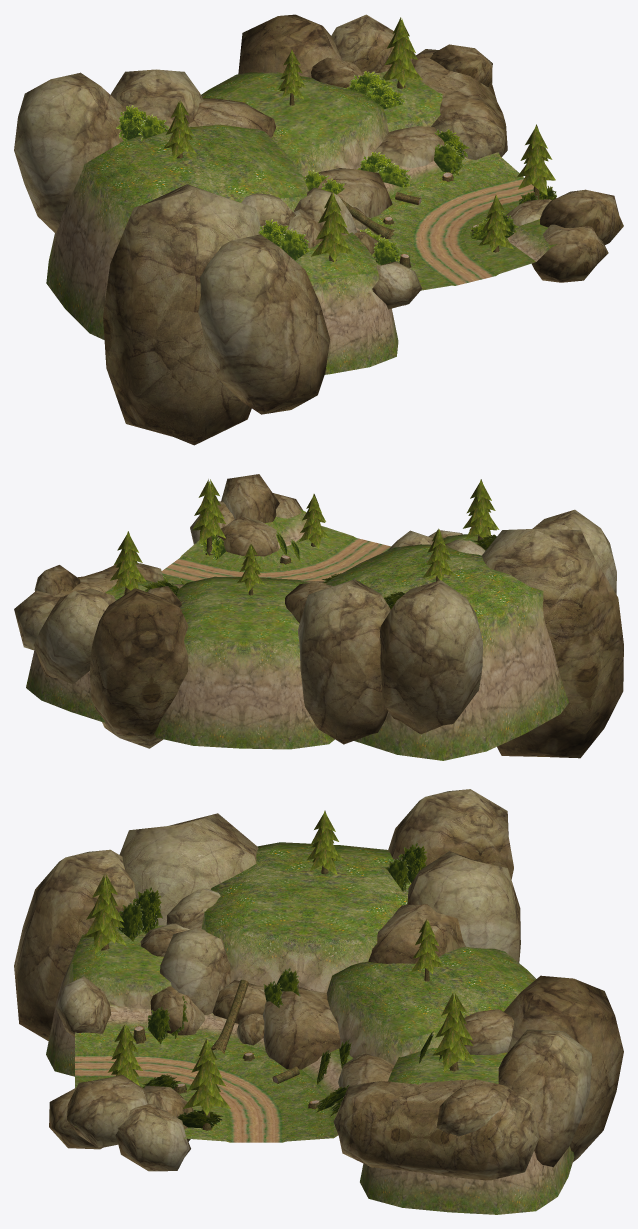
File: BikeRoad012.FBX
3 views of the same model, one above another, from view 1: azimuth 30°, elevation 25°; view 2: azimuth 150°, elevation 25°; view 3: azimuth 270°, elevation 25° (orthographic). The views are drawn at different scales.
Parts seen in each view (by area): view 1: Rock (×19), Ground (×5), Tree (×6), GrassPlane (×5); view 2: Rock (×14), Ground (×4), Tree (×6); view 3: Rock (×23), Ground (×5), Tree (×6), GrassPlane (×4), Log.
Part boxes in pixels (x1,y1,x2,y2): Rock (×19): (14,14,623,445); Ground (×5): (46,71,557,374); Tree (×6): (163,17,555,261); GrassPlane (×5): (116,71,465,260); Rock (×14): (14,474,623,758); Ground (×4): (26,509,568,760); Tree (×6): (110,479,499,595); Rock (×23): (14,789,623,1180); Ground (×5): (46,842,574,1214); Tree (×6): (83,810,475,1130); GrassPlane (×4): (117,842,427,1043); Log: (211,979,248,1054).
Size of the model in its own units: 6805 by 3647 by 6489.
